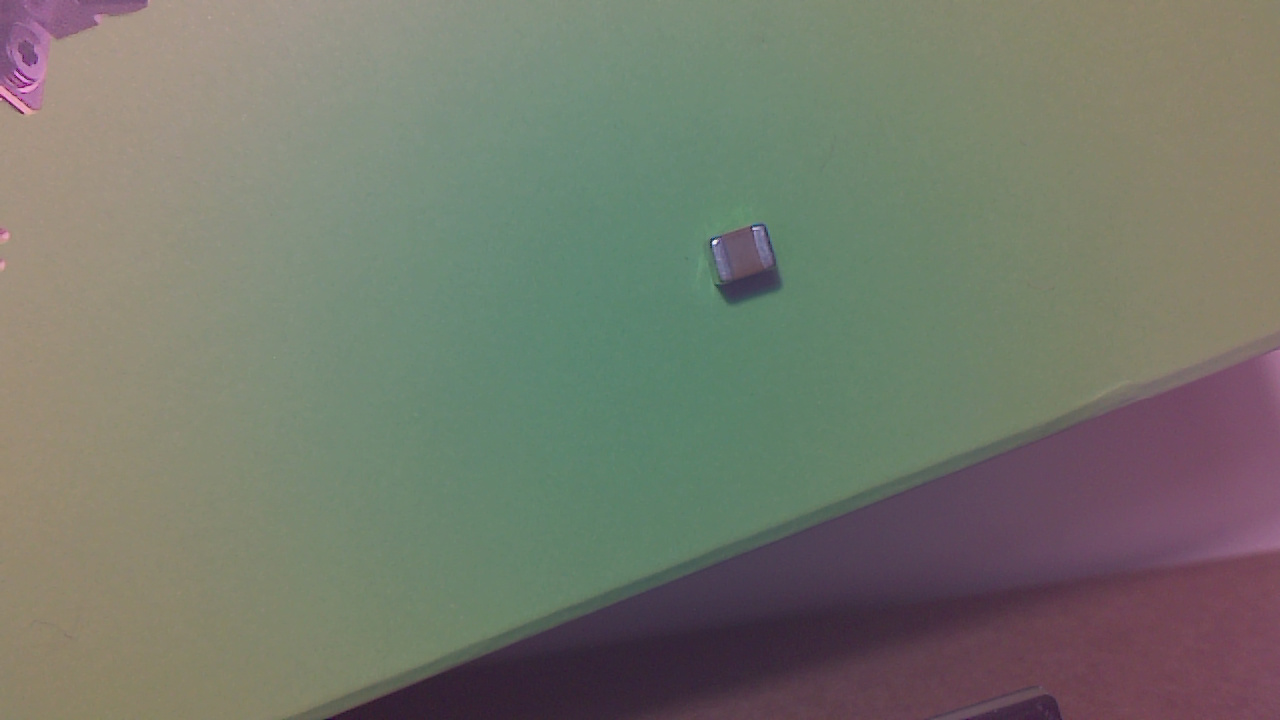Condensator: (701, 222, 781, 304)
